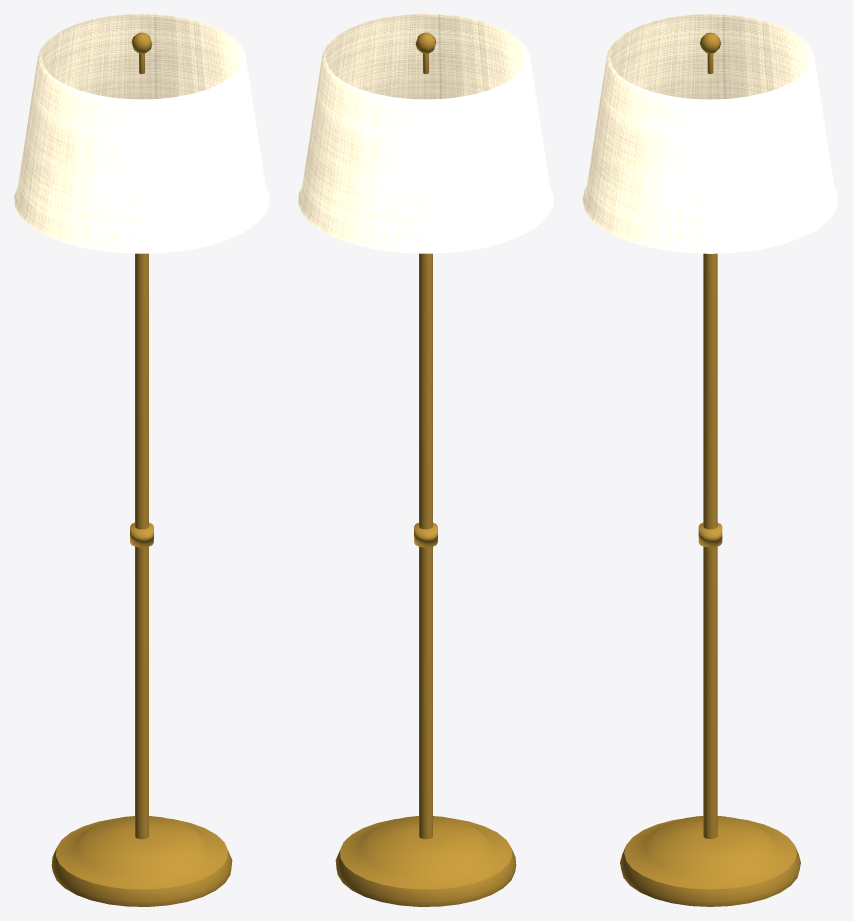
File: floor_lamp_gold.glb
3 views of the same model, side by side, from view 1: azimuth 30°, elevation 25°; view 2: azimuth 150°, elevation 25°; view 3: azimuth 270°, elevation 25° (orthographic).
Visible parts, largest first — view 1: model; view 2: model; view 3: model.
Boxes of the visible parts, box(x1,y1,x2,y2) form: model: box(14, 14, 269, 906); model: box(298, 14, 553, 906); model: box(582, 14, 838, 906).
Size of the model in its own units: 0.43 by 1.55 by 0.43.
2 materials, 1 textured.
